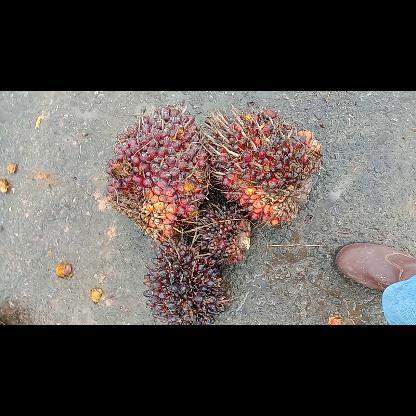TBS abnormal: (141, 234, 227, 324), (190, 202, 254, 262)
TBS masak: (194, 102, 324, 230), (100, 101, 212, 245)
